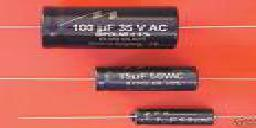Electrolytic-Capacitor: (1, 4, 256, 46), (91, 61, 212, 94), (129, 104, 220, 128)
